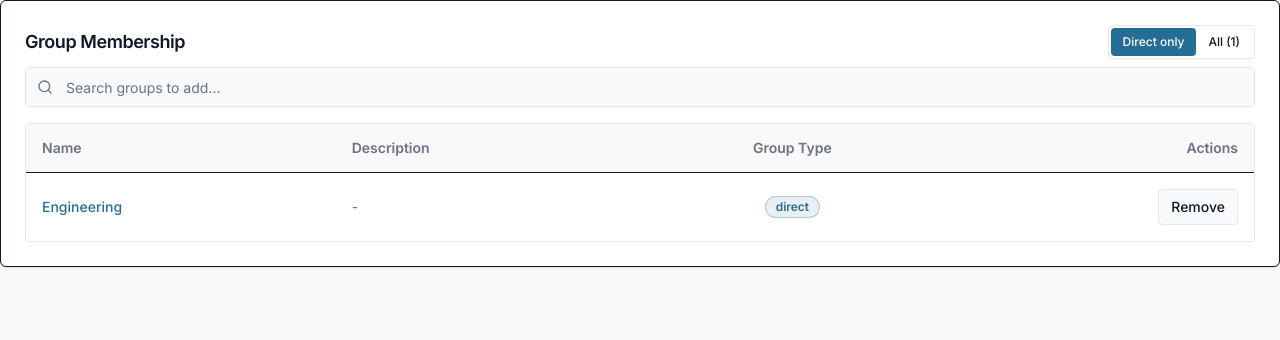
Test: GroupMembership nested toggle › renders nested groups after switching to All without crashing
The width and height of the screenshot is (1280, 340).
Click the button "All (1)" at point(1224, 42), box [1196, 28, 1252, 56]
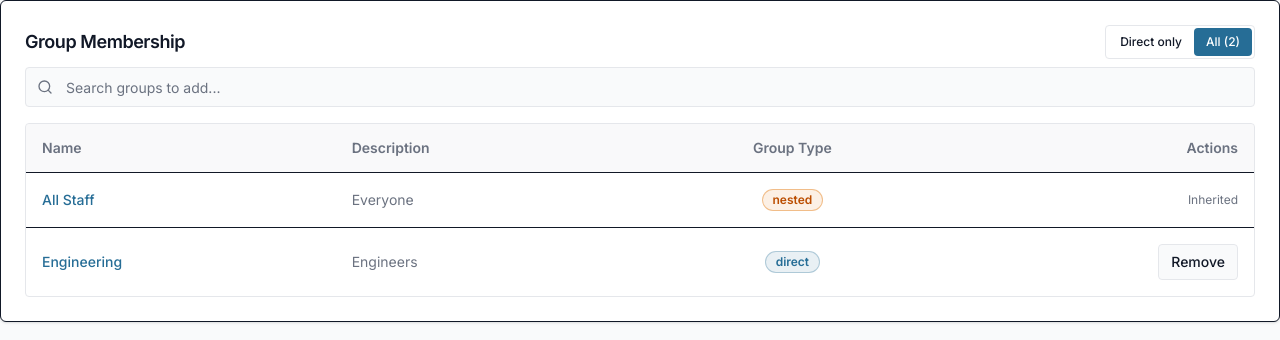
expect the link "Engineering" is shown: met, box [42, 252, 122, 270]
expect the link "All Staff" is shown: met, box [42, 190, 95, 208]
